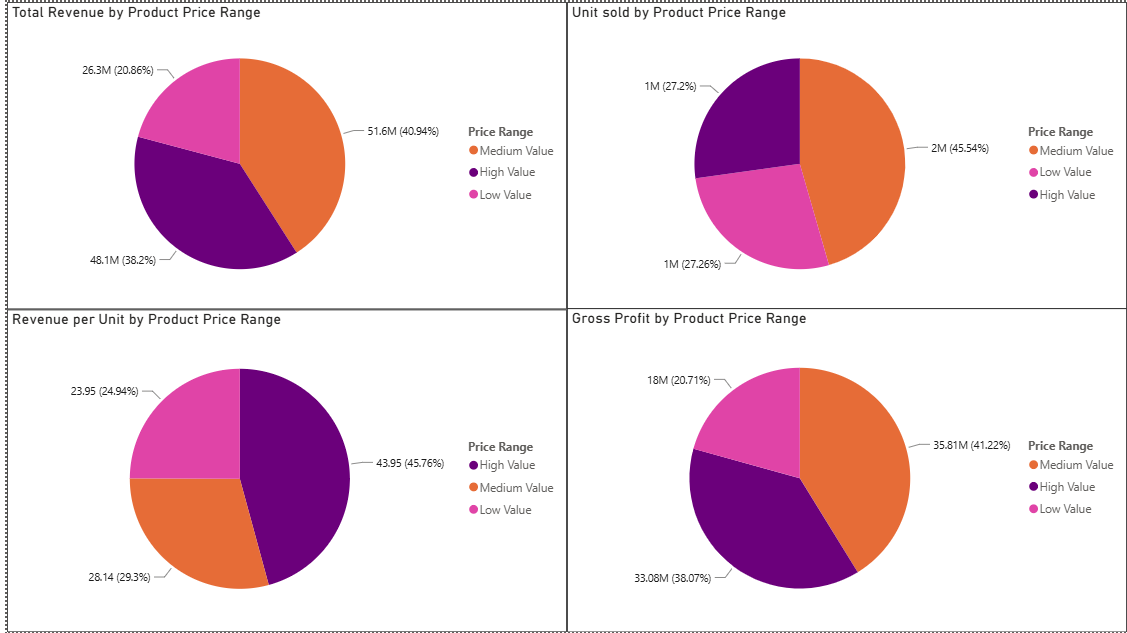

The dashboard page shown, as its layout file describes it:
{"tool":"powerbi","page":{"name":"Product Price Range - Wise KPI","canvas":[1280,720],"ordinal":7},"visuals":[{"type":"pieChart","title":"Total Revenue by Product Price Range","fields":{"Y":["FactSales.Total Revenue"],"Category":["Dim.Products.Price Range"]},"box":[0,0,640,351.4],"z":0},{"type":"pieChart","title":"Unit sold by Product Price Range","fields":{"Y":["Sum(FactSales.Units)"],"Category":["Dim.Products.Price Range"]},"box":[640,0,640,351.4],"z":1000},{"type":"pieChart","title":"Revenue per Unit by Product  Price Range","fields":{"Y":["FactSales.Revenue per Unit"],"Category":["Dim.Products.Price Range"]},"box":[0,351.4,640,368.6],"z":2000},{"type":"pieChart","title":"Gross Profit by Product Price Range","fields":{"Category":["Dim.Products.Price Range"],"Y":["FactSales.Gross Profit"]},"box":[640,350,640,370],"z":3000}]}

Visuals, with their boxes in screenshot pixels (x1, y1, x2, y2), scaled from the page's 1280x720 canvas onto the 1127x633 screenshot:
"Total Revenue by Product Price Range" pieChart: {"left": 0, "top": 0, "right": 564, "bottom": 309}
"Unit sold by Product Price Range" pieChart: {"left": 564, "top": 0, "right": 1126, "bottom": 309}
"Revenue per Unit by Product  Price Range" pieChart: {"left": 0, "top": 309, "right": 564, "bottom": 632}
"Gross Profit by Product Price Range" pieChart: {"left": 564, "top": 308, "right": 1126, "bottom": 632}
